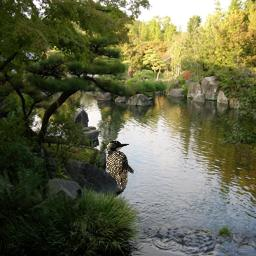Woodpecker: (106, 140, 135, 190)
